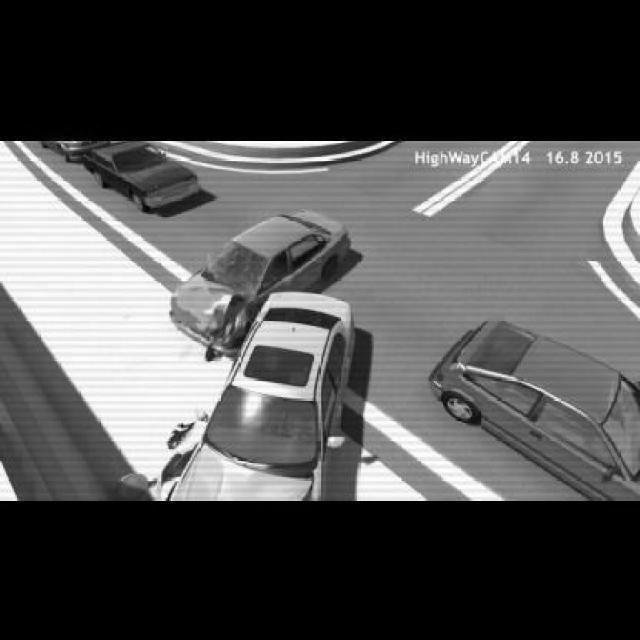accident: (157, 284, 355, 506), (160, 207, 359, 353)
vehicle: (415, 301, 640, 506), (78, 141, 206, 214)
